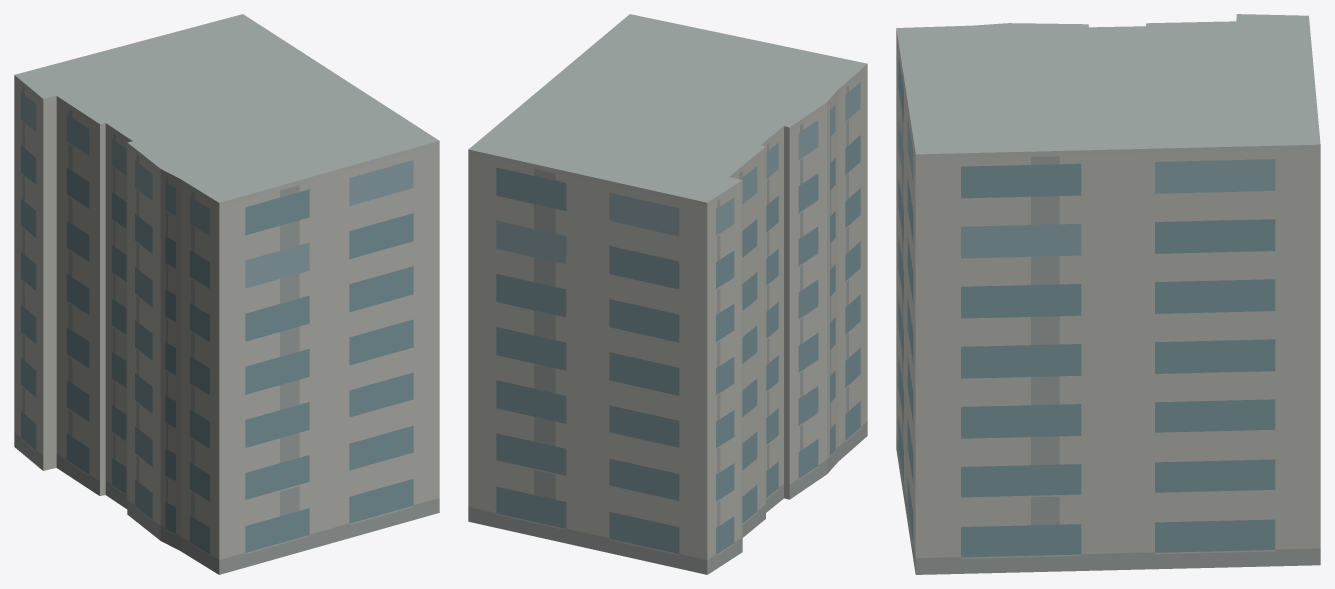
Rendered from survey-upis-32841744.glb.
3 renders of one model, left to right at view 1: azimuth 30°, elevation 25°; view 2: azimuth 150°, elevation 25°; view 3: azimuth 270°, elevation 25°, orthographic. The views are drawn at different scales.
Visible parts, largest first — view 1: survey-upis-32841744.tmp; view 2: survey-upis-32841744.tmp; view 3: survey-upis-32841744.tmp.
Boxes of the visible parts, <box> form: survey-upis-32841744.tmp: <box>14,14,439,574</box>; survey-upis-32841744.tmp: <box>468,14,867,574</box>; survey-upis-32841744.tmp: <box>896,14,1320,574</box>.
Bounding box in the file's own units: 13.75 × 19.2 × 17.57.
